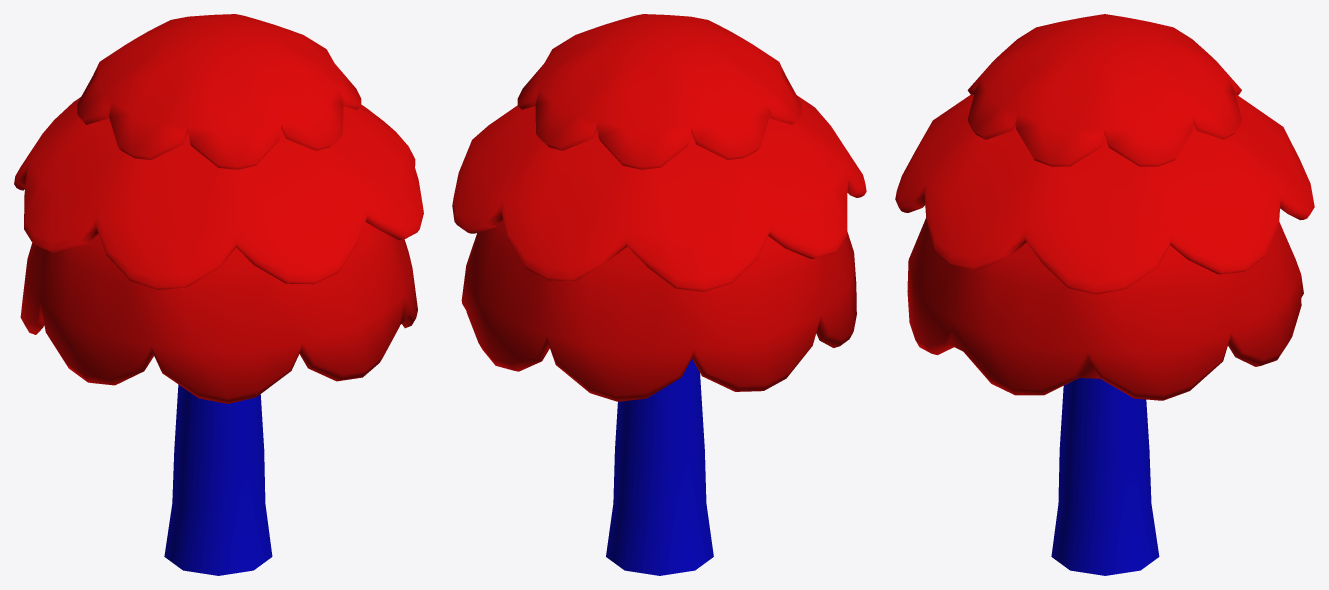
The model's file is SM_HealthyOakTree_01_LOD1.fbx.
3 renders of one model, left to right at view 1: azimuth 30°, elevation 25°; view 2: azimuth 150°, elevation 25°; view 3: azimuth 270°, elevation 25°, orthographic.
Visible parts, largest first — view 1: OakTree_LOD1; view 2: OakTree_LOD1; view 3: OakTree_LOD1.
Boxes of the visible parts, x1,y1,x2,y2 form: OakTree_LOD1: [14, 14, 423, 575]; OakTree_LOD1: [452, 14, 866, 575]; OakTree_LOD1: [895, 14, 1314, 575].
Size of the model in its own units: 579 by 797 by 579.
